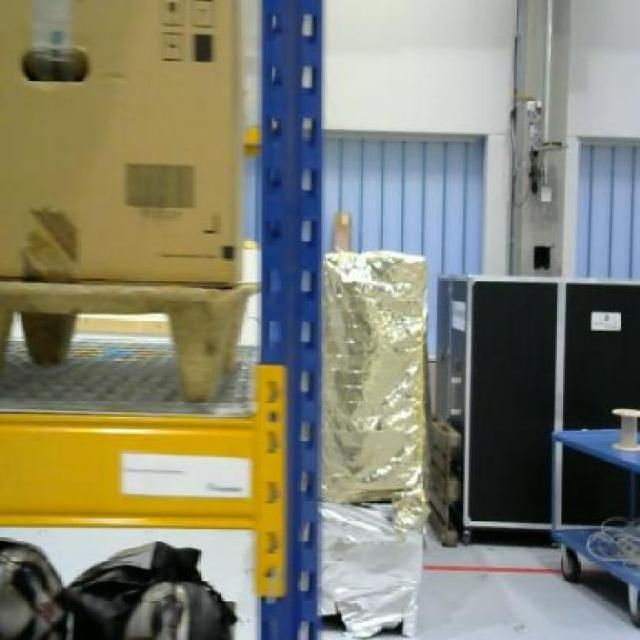box: (0, 0, 246, 277)
